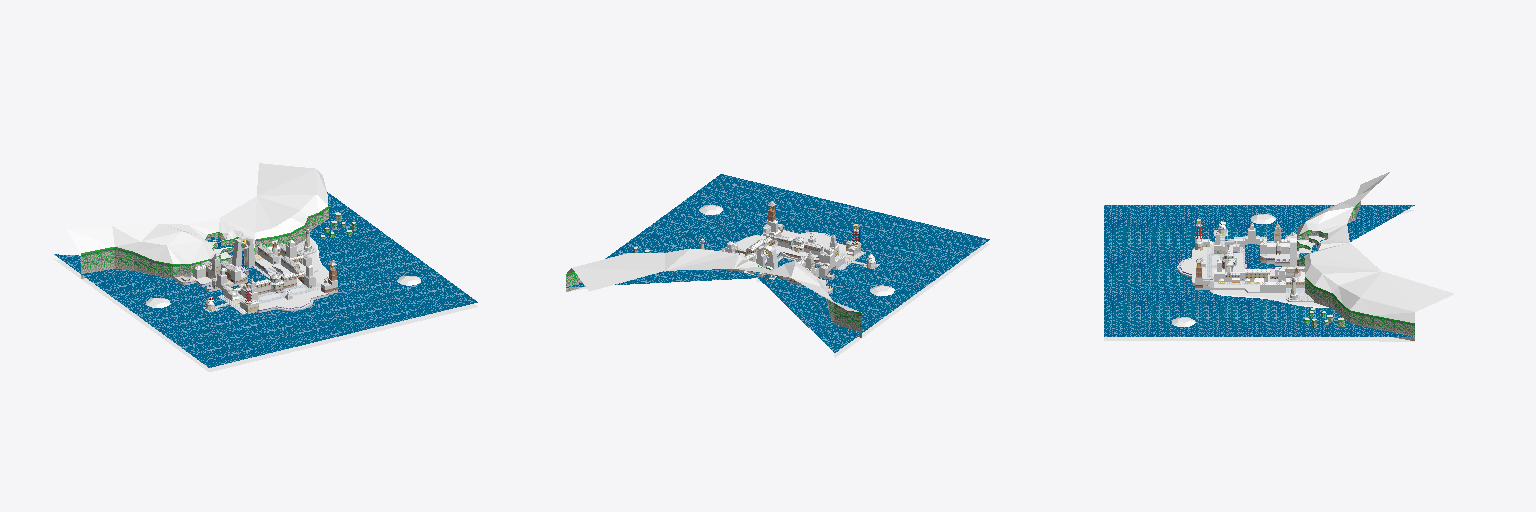
3 renders of one model, left to right at view 1: azimuth 30°, elevation 25°; view 2: azimuth 150°, elevation 25°; view 3: azimuth 270°, elevation 25°, orthographic.
Visible parts, largest first — view 1: polygon1; view 2: polygon1; view 3: polygon1.
Boxes of the visible parts, x1,y1,x2,y2 form: polygon1: [54, 163, 477, 371]; polygon1: [566, 174, 989, 357]; polygon1: [1104, 172, 1453, 341].
Bounding box in the file's own units: 45.78 × 6.45 × 51.69.
Materials: 68 (25 with a texture image).